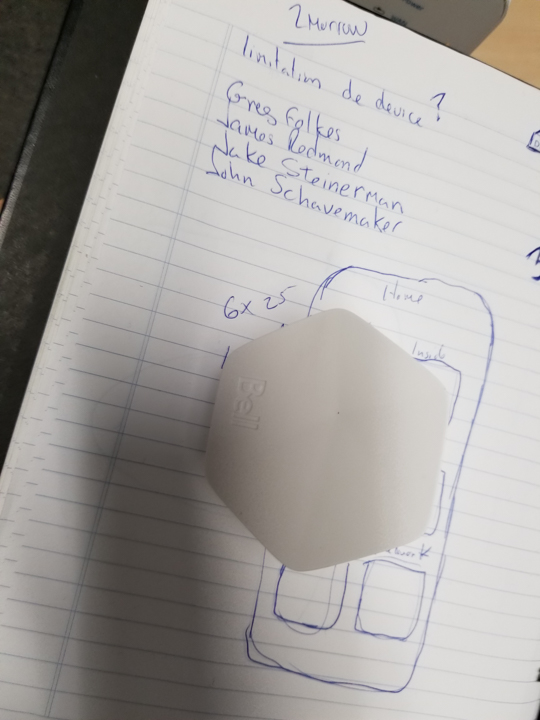pod: (200, 305, 457, 576)
